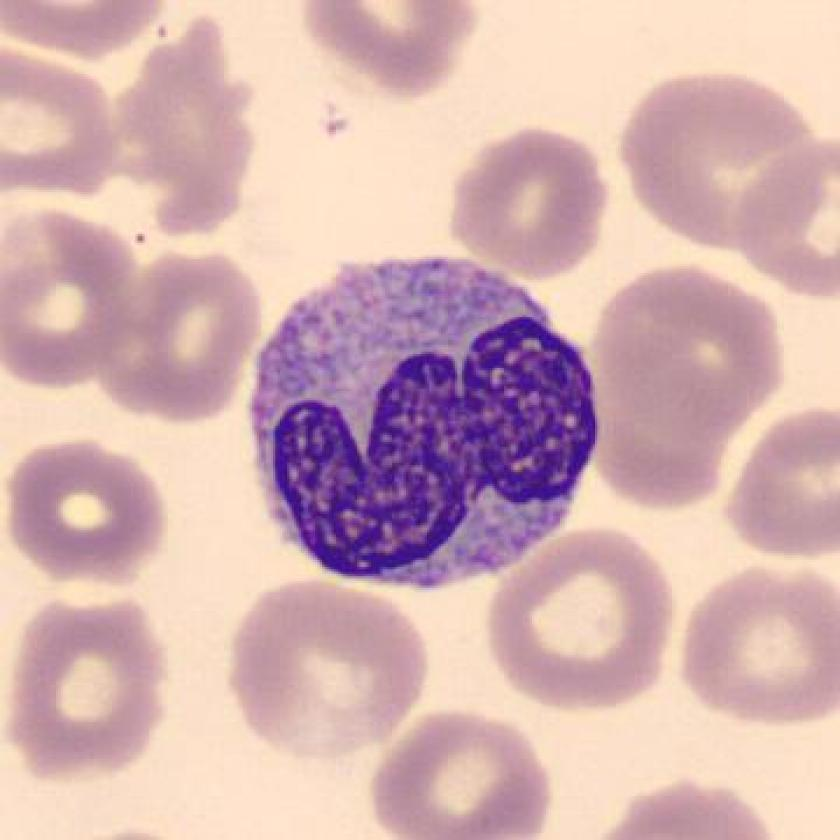monocyte: (227, 233, 617, 608)
